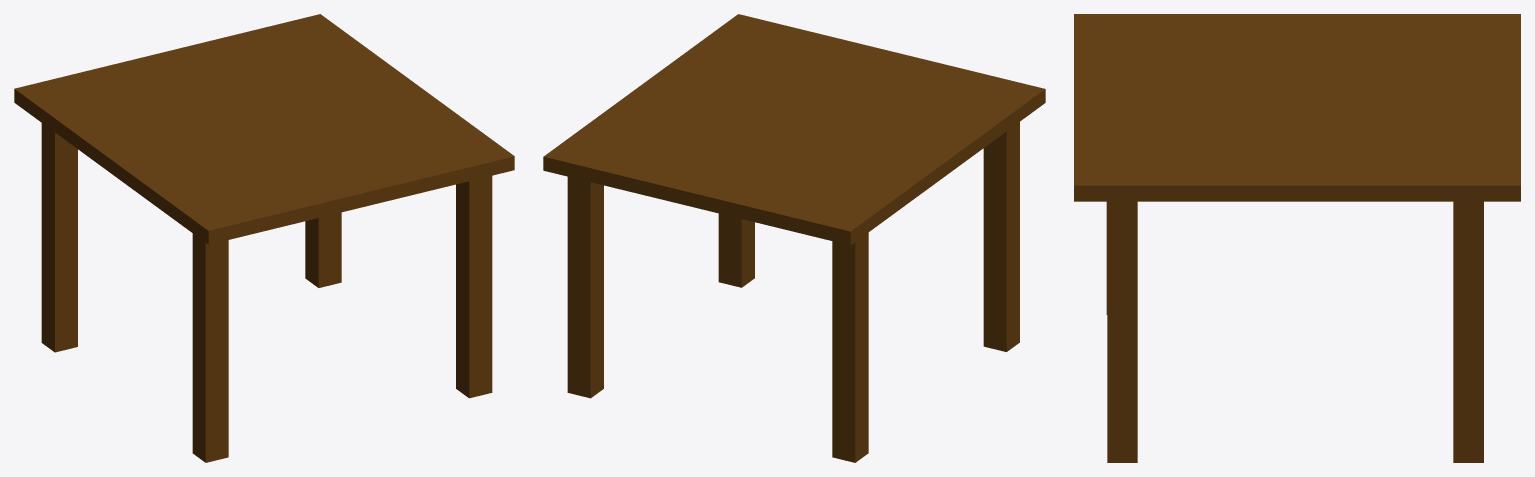
File: Chair without back.fbx
3 views of the same model, side by side, from view 1: azimuth 30°, elevation 25°; view 2: azimuth 150°, elevation 25°; view 3: azimuth 270°, elevation 25° (orthographic). The views are drawn at different scales.
Parts seen in each view (by area): view 1: Cube_2_2, Cube_3, Cube, Cube_2, Cube_1; view 2: Cube_2_2, Cube_2, Cube_1, Cube_3, Cube; view 3: Cube_2_2, Cube_1, Cube.
Boxes of the visible parts, x1,y1,x2,y2 form: Cube_2_2: (14, 14, 514, 244); Cube_3: (192, 233, 228, 462); Cube: (456, 176, 492, 398); Cube_2: (41, 123, 77, 352); Cube_1: (305, 212, 341, 287); Cube_2_2: (543, 14, 1045, 245); Cube_2: (832, 232, 868, 462); Cube_1: (567, 176, 603, 398); Cube_3: (983, 122, 1019, 351); Cube: (718, 213, 754, 287); Cube_2_2: (1074, 14, 1520, 201); Cube_1: (1453, 201, 1483, 462); Cube: (1107, 201, 1137, 462).
Bounding box in the file's own units: 200 × 153 × 220.
